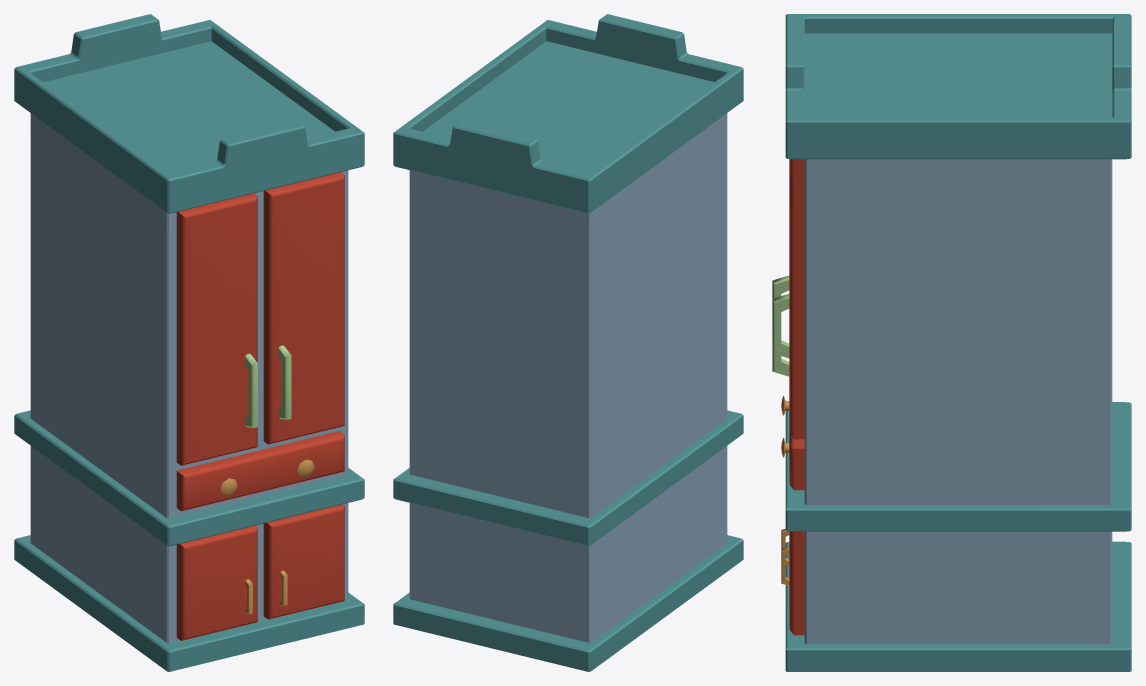
File: Armadio_5.fbx
3 renders of one model, left to right at view 1: azimuth 30°, elevation 25°; view 2: azimuth 150°, elevation 25°; view 3: azimuth 270°, elevation 25°, orthographic. The views are drawn at different scales.
Parts seen in each view (by area): view 1: Armadio_5; view 2: Armadio_5; view 3: Armadio_5.
Boxes of the visible parts, x1,y1,x2,y2 form: Armadio_5: (14,14,364,671); Armadio_5: (393,14,743,671); Armadio_5: (772,14,1131,671).
Size of the model in its own units: 0.8447 by 2.1 by 1.19.
